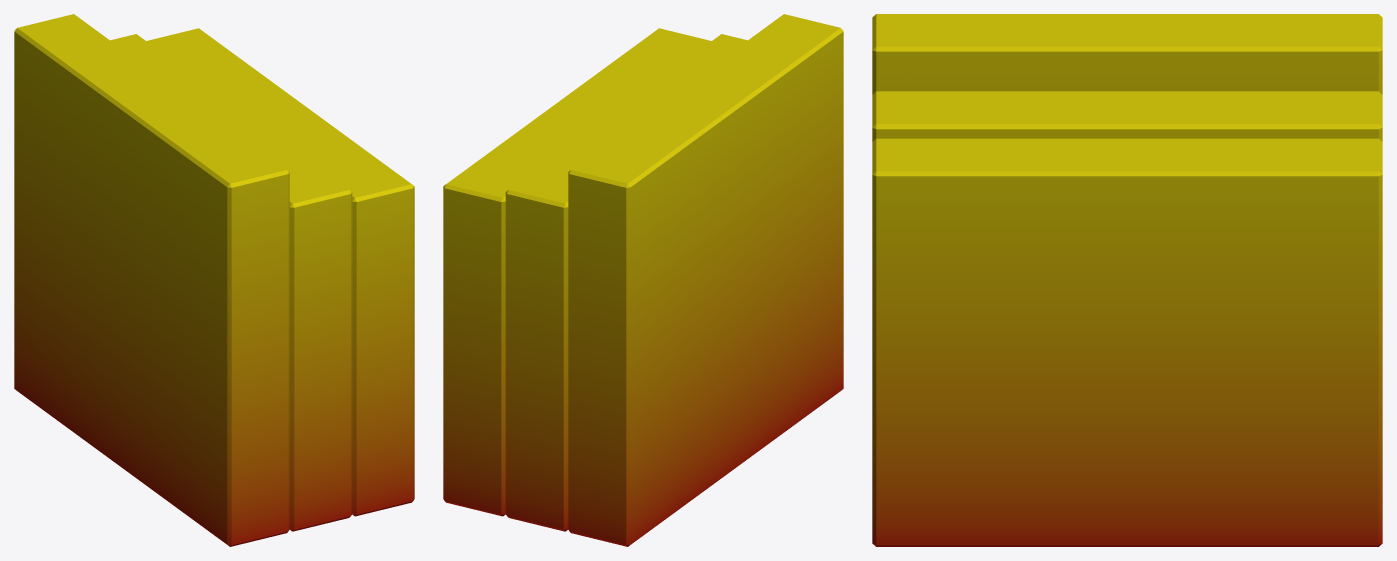
The model's file is bridge_pier_broken.glb.
3 renders of one model, left to right at view 1: azimuth 30°, elevation 25°; view 2: azimuth 150°, elevation 25°; view 3: azimuth 270°, elevation 25°, orthographic. The views are drawn at different scales.
Parts seen in each view (by area): view 1: bridge_pier_broken; view 2: bridge_pier_broken; view 3: bridge_pier_broken.
Boxes of the visible parts, bbox=[...] form: bridge_pier_broken: bbox=[14, 14, 414, 546]; bridge_pier_broken: bbox=[443, 14, 843, 546]; bridge_pier_broken: bbox=[872, 14, 1382, 546].
Size of what is drawn, in the model's own units: 2 by 3.71 by 4.
